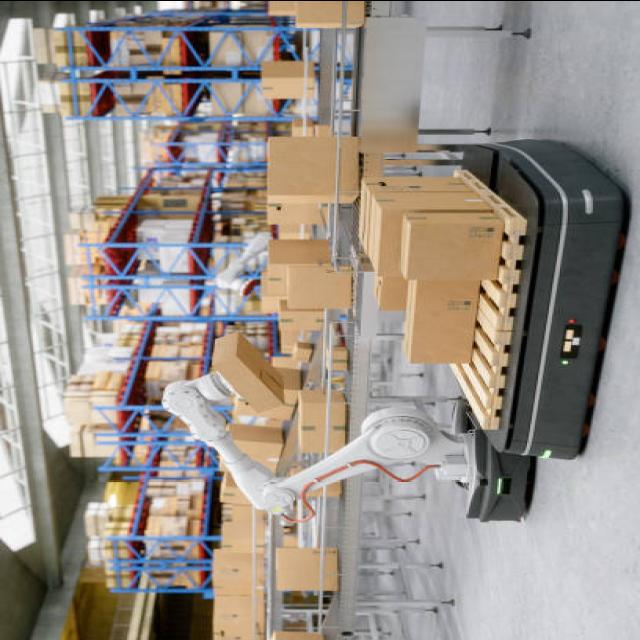Robotic-arm: (150, 368, 494, 519)
